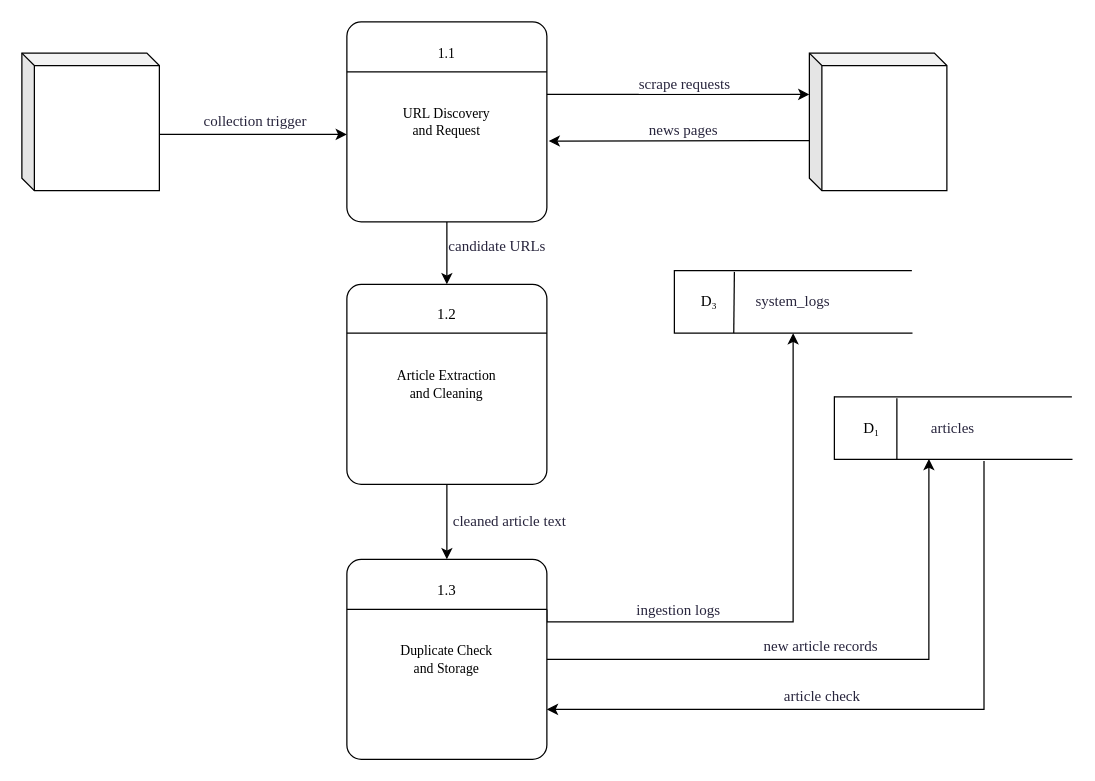
Some shapes in this 1095 by 781 pixel diagram are drawn without their labels. Each missing label, with the centre of its shape:
"Philippine Online News Sources" belongs at (x=877, y=121).
"Researcher / User" belongs at (x=90, y=121).
